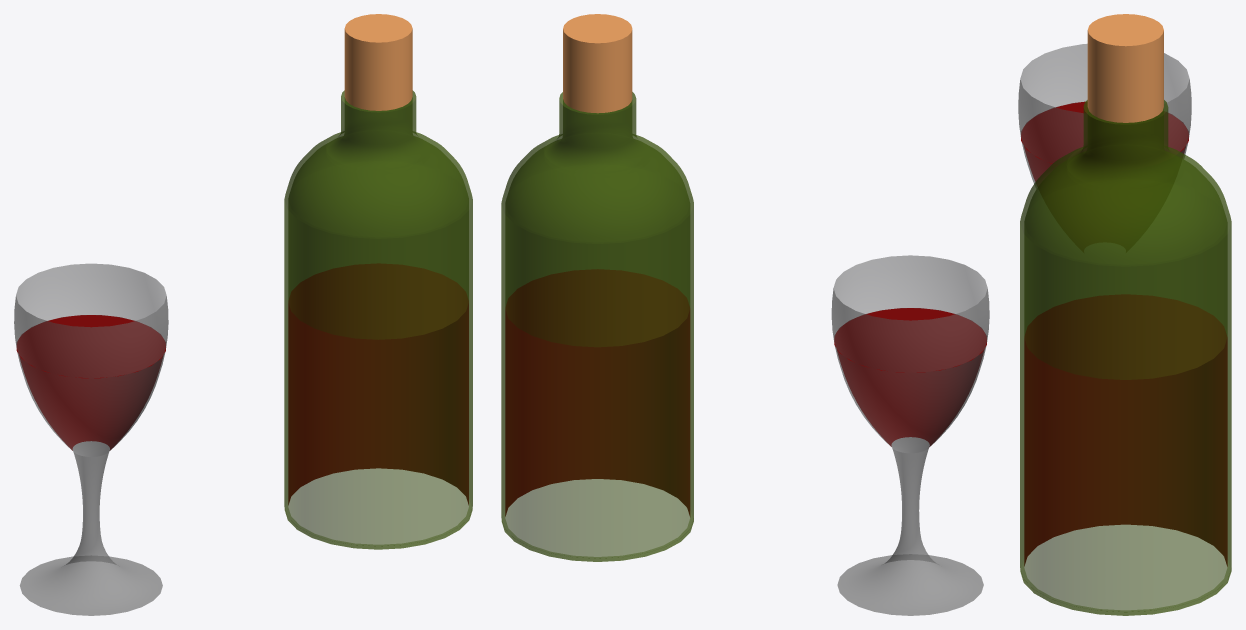
The model's file is wine.obj.
The picture shows the model from 3 angles, left to right: view 1: azimuth 30°, elevation 25°; view 2: azimuth 150°, elevation 25°; view 3: azimuth 270°, elevation 25°; orthographic projection. The views are drawn at different scales.
Parts seen in each view (by area): view 1: Mesh1 glass_w__wine1 Model, Mesh2 glass_w__wine1 Model, Mesh3 glass_w__wine1 Model; view 2: Mesh1 glass_w__wine1 Model, Mesh2 glass_w__wine1 Model, Mesh3 glass_w__wine1 Model; view 3: Mesh1 glass_w__wine1 Model, Mesh2 glass_w__wine1 Model, Mesh3 glass_w__wine1 Model.
Boxes of the visible parts, x1=… form: Mesh1 glass_w__wine1 Model: x1=284, y1=14, x2=472, y2=549; Mesh2 glass_w__wine1 Model: x1=14, y1=263, x2=168, y2=615; Mesh3 glass_w__wine1 Model: x1=16, y1=315, x2=165, y2=378; Mesh1 glass_w__wine1 Model: x1=501, y1=14, x2=693, y2=561; Mesh2 glass_w__wine1 Model: x1=831, y1=255, x2=989, y2=615; Mesh3 glass_w__wine1 Model: x1=834, y1=308, x2=986, y2=372; Mesh1 glass_w__wine1 Model: x1=1020, y1=14, x2=1231, y2=615; Mesh2 glass_w__wine1 Model: x1=1018, y1=44, x2=1191, y2=188; Mesh3 glass_w__wine1 Model: x1=1021, y1=101, x2=1188, y2=164.
Size of the model in its own units: 13.63 by 14.1 by 5.04.
